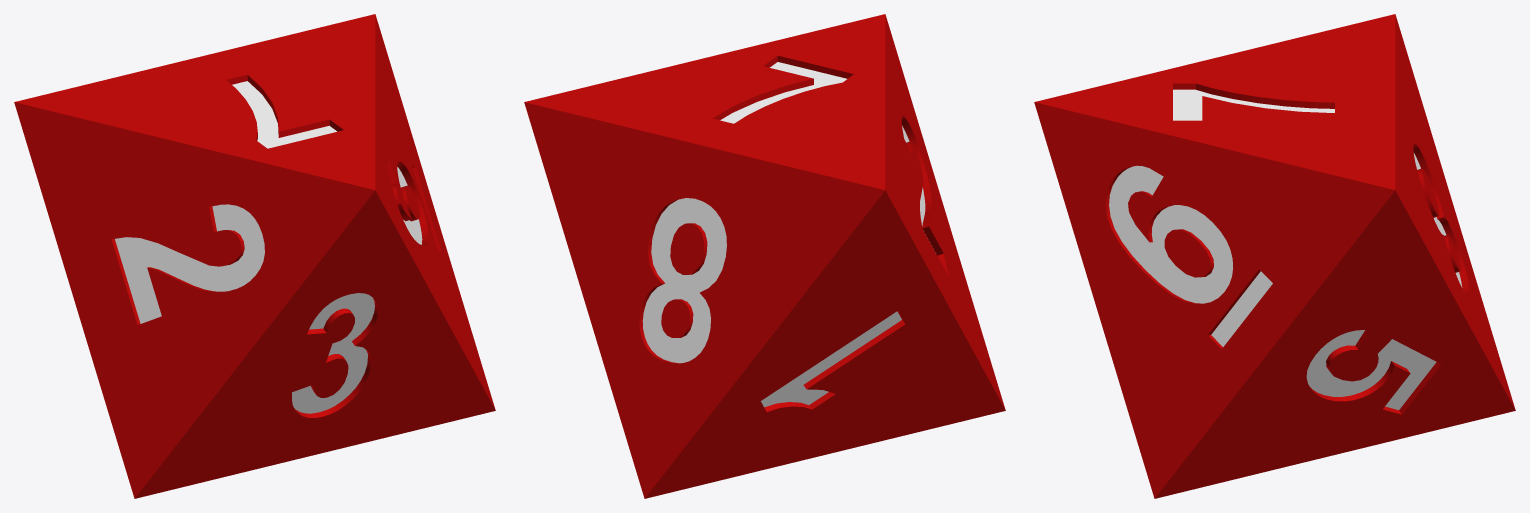
Rendered from Game_Dice_D8_Red_01.fbx.
3 renders of one model, left to right at view 1: azimuth 30°, elevation 25°; view 2: azimuth 150°, elevation 25°; view 3: azimuth 270°, elevation 25°, orthographic.
Parts seen in each view (by area): view 1: Game_Dice_D8_Red_01; view 2: Game_Dice_D8_Red_01; view 3: Game_Dice_D8_Red_01.
Boxes of the visible parts, x1=… form: Game_Dice_D8_Red_01: x1=14, y1=14, x2=495, y2=498; Game_Dice_D8_Red_01: x1=524, y1=14, x2=1005, y2=498; Game_Dice_D8_Red_01: x1=1034, y1=14, x2=1515, y2=498.
Size of the model in its own units: 13.57 by 11.08 by 15.66.
